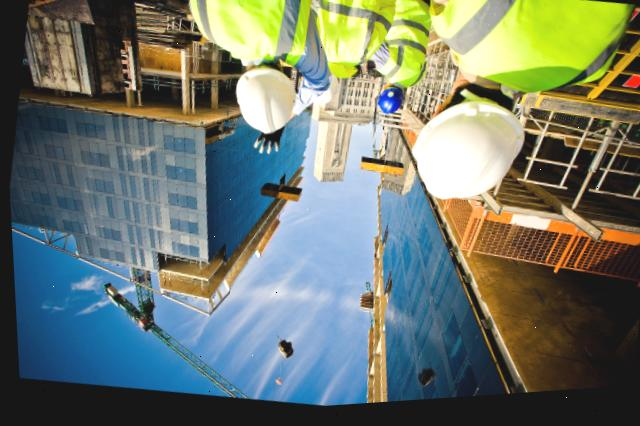helmet: (400, 98, 532, 221), (213, 60, 313, 151), (361, 86, 418, 132), (312, 74, 347, 115)
vest: (433, 0, 632, 117), (179, 0, 316, 67), (311, 0, 399, 73), (373, 5, 442, 94)
